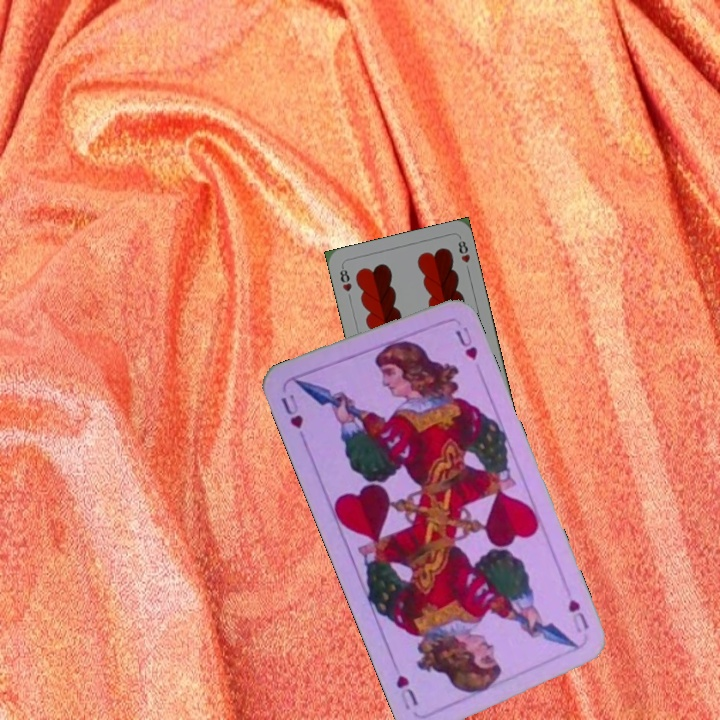H8: (336, 262, 354, 294)
HU: (277, 390, 306, 432), (564, 595, 592, 636)
